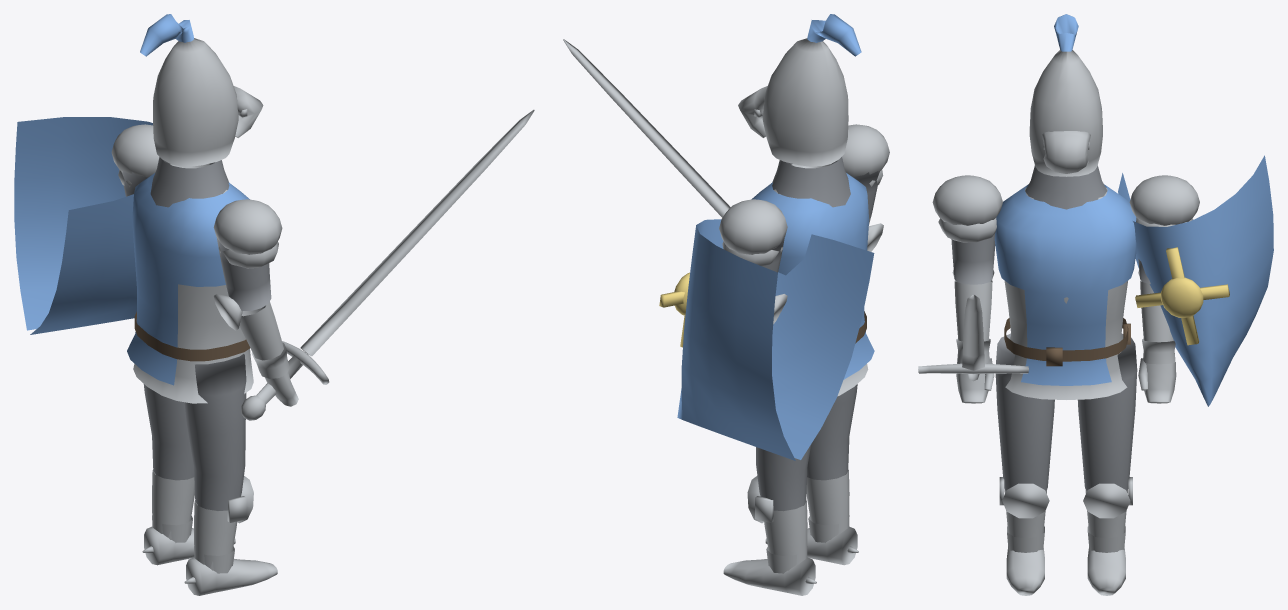
Rendered from swordsman.glb.
3 views of the same model, side by side, from view 1: azimuth 30°, elevation 25°; view 2: azimuth 150°, elevation 25°; view 3: azimuth 270°, elevation 25° (orthographic). The views are drawn at different scales.
Visible parts, largest first — view 1: Shield, Surcoat_Team, Head, Leg_R, Weapon, Torso, Pauldron_R, Leg_L, Boot_R, Aventail, Vambrace_R, Greave_L (+9 smaller); view 2: Shield, Head, Surcoat_Team, Pauldron_L, Leg_R, Weapon, Boot_L, Aventail, Leg_L, Greave_R, Pauldron_R, Greave_L (+7 smaller); view 3: Surcoat_Team, Shield, Head, Leg_L, Leg_R, Torso, Pauldron_R, Pauldron_L, Shield_Boss, Weapon, Aventail, Boot_L (+13 smaller).
Boxes of the visible parts, bbox=[...] form: Shield: bbox=[14, 117, 152, 334]; Surcoat_Team: bbox=[127, 173, 249, 385]; Head: bbox=[153, 38, 238, 166]; Leg_R: bbox=[184, 354, 246, 510]; Weapon: bbox=[241, 109, 534, 420]; Torso: bbox=[133, 164, 253, 403]; Pauldron_R: bbox=[213, 199, 282, 268]; Leg_L: bbox=[143, 384, 194, 480]; Boot_R: bbox=[184, 546, 277, 595]; Aventail: bbox=[150, 157, 229, 207]; Vambrace_R: bbox=[214, 294, 283, 360]; Greave_L: bbox=[152, 469, 194, 539]; Shield: bbox=[677, 219, 874, 460]; Head: bbox=[762, 38, 848, 166]; Surcoat_Team: bbox=[751, 173, 874, 379]; Pauldron_L: bbox=[719, 199, 787, 266]; Leg_R: bbox=[807, 384, 857, 480]; Weapon: bbox=[563, 39, 730, 217]; Boot_L: bbox=[723, 546, 816, 595]; Aventail: bbox=[772, 157, 850, 207]; Leg_L: bbox=[756, 444, 811, 511]; Greave_R: bbox=[806, 470, 849, 539]; Pauldron_R: bbox=[842, 124, 889, 186]; Greave_L: bbox=[764, 500, 807, 570]; Surcoat_Team: bbox=[994, 184, 1136, 385]; Shield: bbox=[1118, 155, 1273, 406]; Head: bbox=[1029, 50, 1102, 176]; Leg_L: bbox=[1077, 333, 1137, 490]; Leg_R: bbox=[995, 333, 1054, 490]; Torso: bbox=[1004, 187, 1128, 399]; Pauldron_R: bbox=[932, 175, 1002, 242]; Pauldron_L: bbox=[1129, 175, 1199, 226]; Shield_Boss: bbox=[1135, 247, 1229, 345]; Weapon: bbox=[918, 294, 1028, 381]; Aventail: bbox=[1025, 165, 1107, 209]; Boot_L: bbox=[1087, 526, 1125, 595].
Bounding box in the file's own units: 0.9081 × 1.26 × 0.7474.
